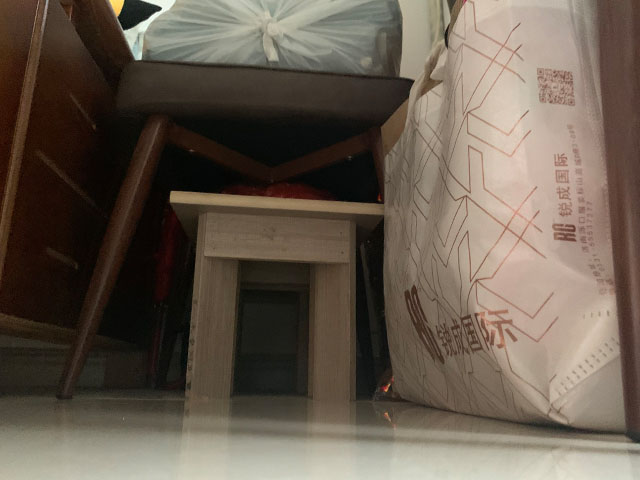stool: (49, 58, 416, 401), (167, 190, 386, 405)
